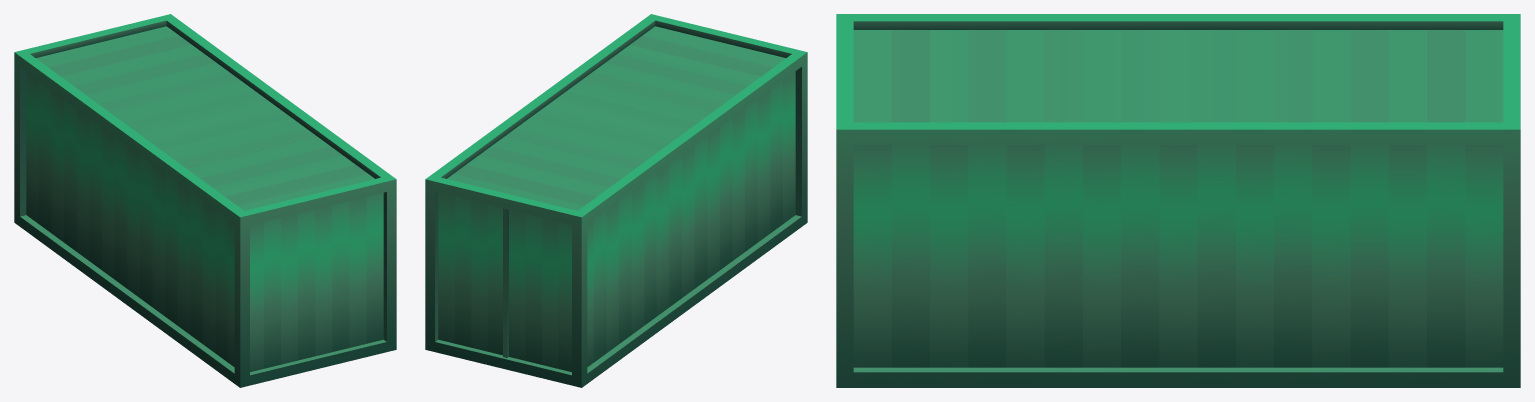
Rendered from Container_1B.fbx.
3 views of the same model, side by side, from view 1: azimuth 30°, elevation 25°; view 2: azimuth 150°, elevation 25°; view 3: azimuth 270°, elevation 25° (orthographic). The views are drawn at different scales.
Parts seen in each view (by area): view 1: Container_1B_D; view 2: Container_1B_D; view 3: Container_1B_D.
Boxes of the visible parts, x1,y1,x2,y2 form: Container_1B_D: (14, 14, 396, 387); Container_1B_D: (425, 14, 807, 387); Container_1B_D: (836, 14, 1520, 387).
Size of the model in its own units: 2.4 by 2.5 by 6.
